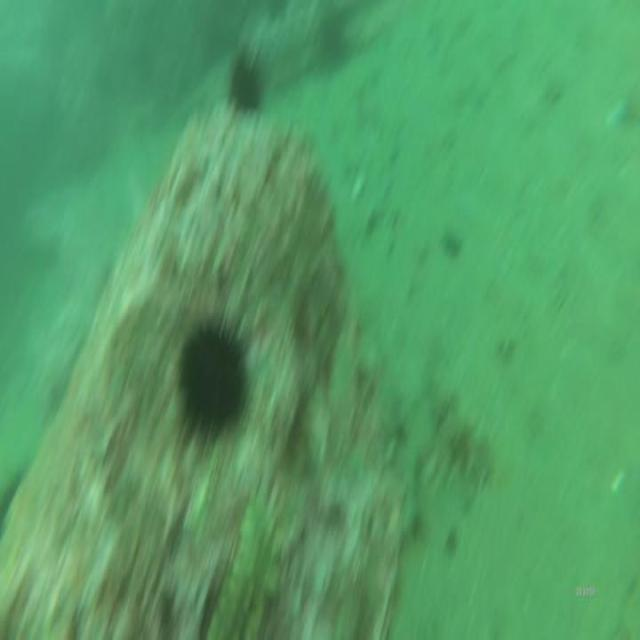echinus: (170, 297, 260, 457), (226, 38, 266, 118)
holothurian: (208, 494, 282, 640)
